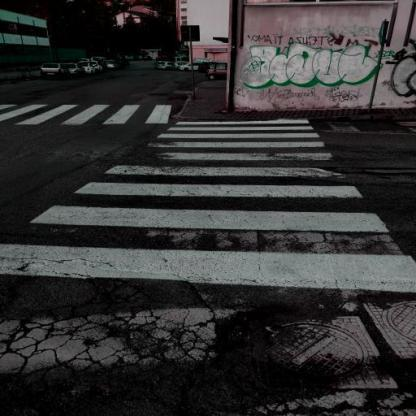crosswalk: (22, 180, 396, 237), (144, 132, 330, 152), (11, 98, 112, 134)
